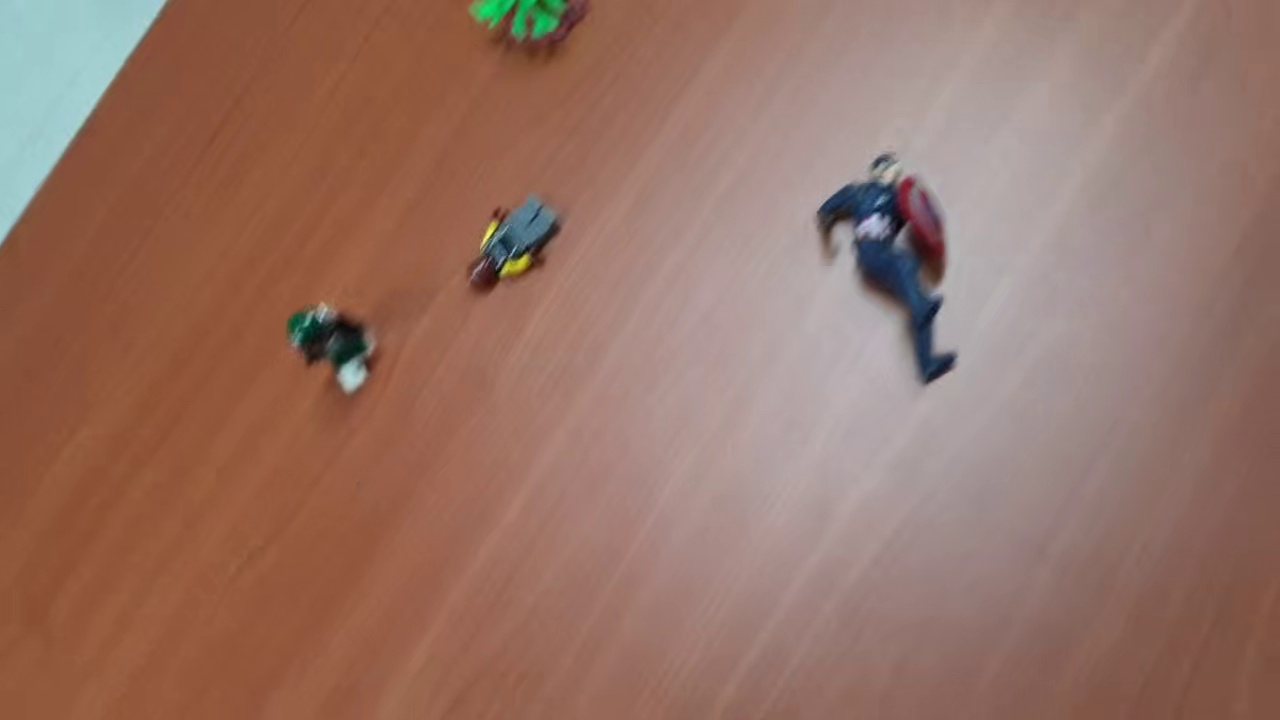people: (812, 150, 963, 386), (462, 195, 564, 295), (283, 299, 380, 397)
tree: (465, 1, 590, 54)
